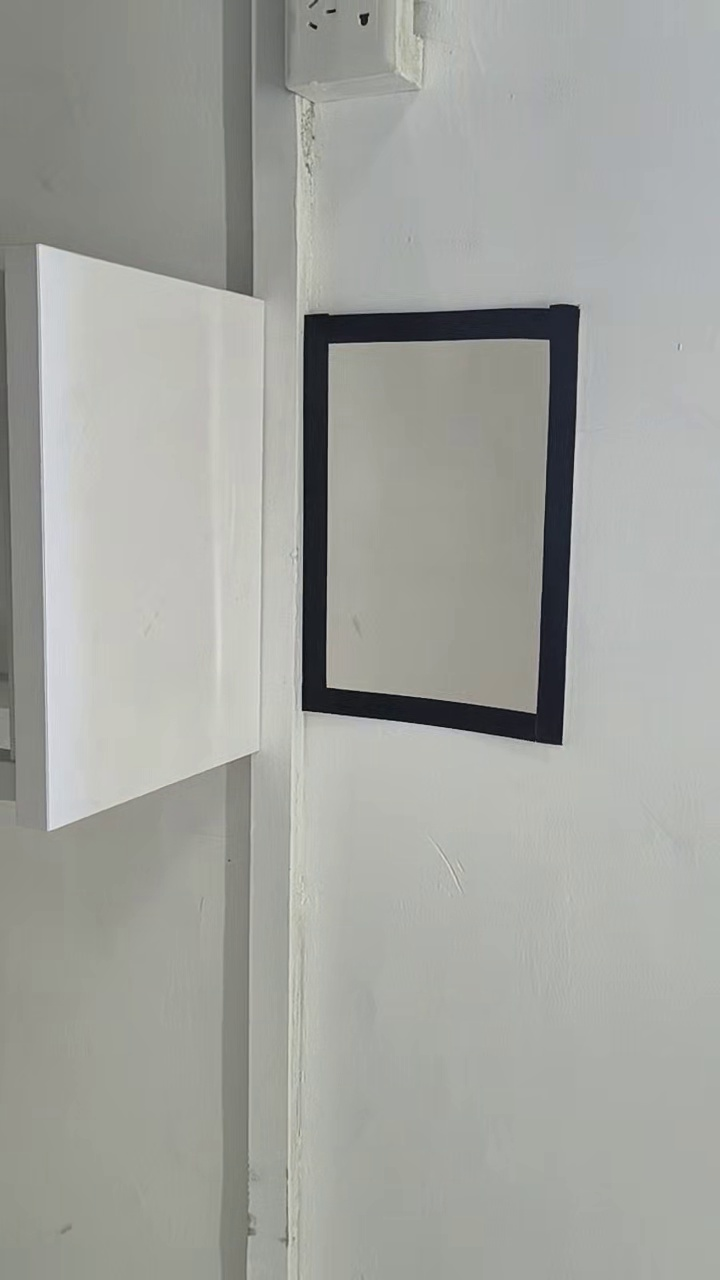board: (305, 305, 572, 739)
